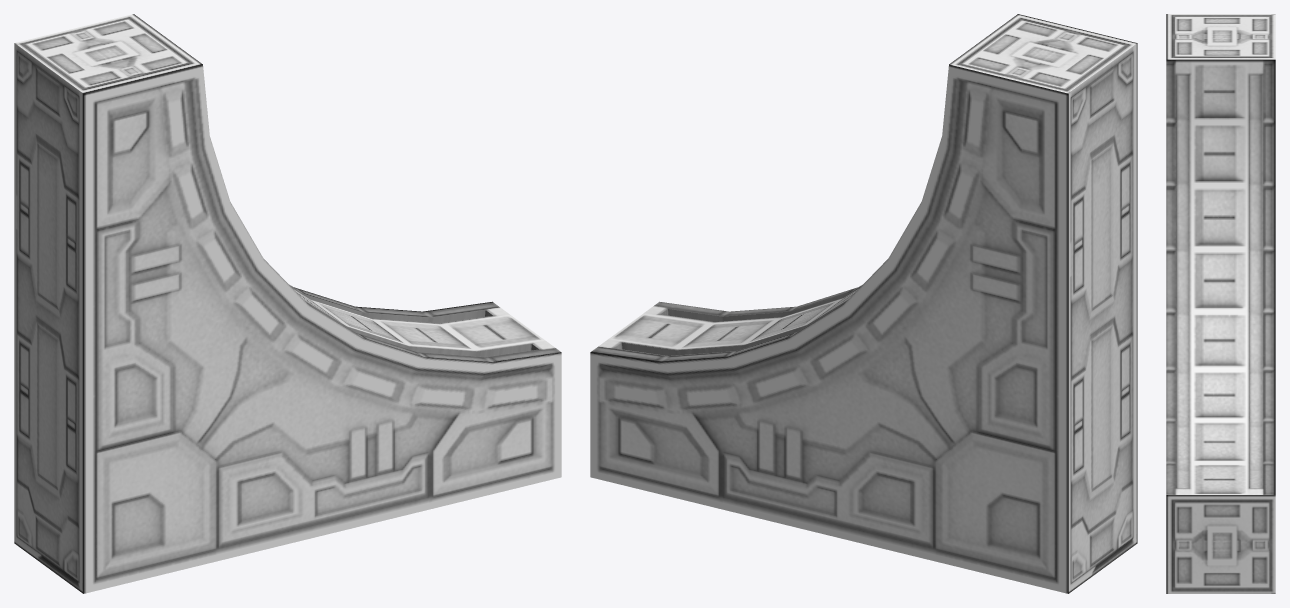
Rendered from Slope2.fbx.
3 views of the same model, side by side, from view 1: azimuth 30°, elevation 25°; view 2: azimuth 150°, elevation 25°; view 3: azimuth 270°, elevation 25° (orthographic). The views are drawn at different scales.
Visible parts, largest first — view 1: Slope11; view 2: Slope11; view 3: Slope11.
Part boxes in pixels (left/top/right/bottom): Slope11: left=14, top=14, right=561, bottom=593; Slope11: left=590, top=14, right=1137, bottom=593; Slope11: left=1166, top=14, right=1275, bottom=593.
Size of the model in its own units: 4 by 4 by 1.
